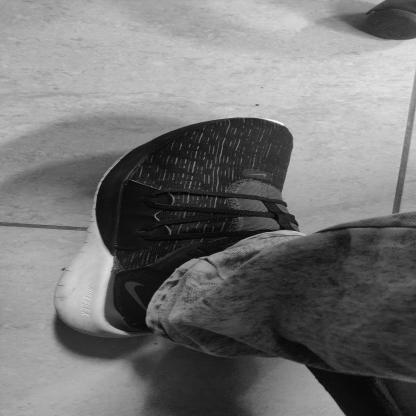ankle: (190, 275, 197, 279)
heel: (112, 333, 130, 337)
left_foot: (51, 113, 312, 355)
pinky: (177, 143, 187, 147)
toe: (287, 137, 295, 140)
